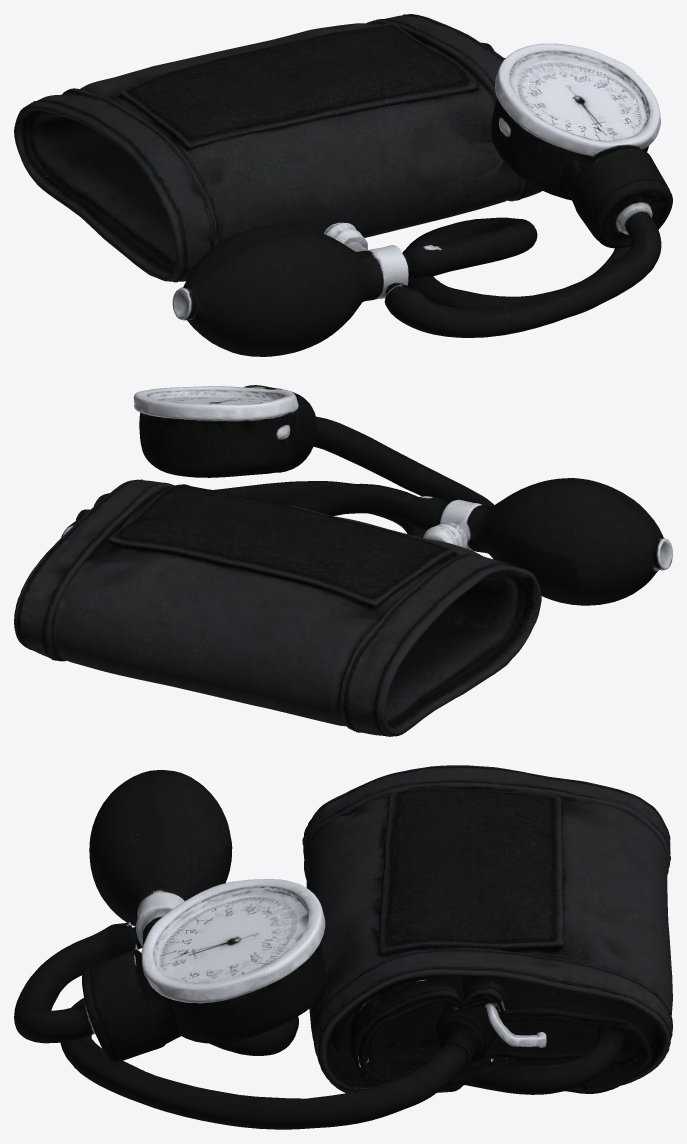
The model's file is bp_cuff.glb.
3 renders of one model, top to bottom at view 1: azimuth 30°, elevation 25°; view 2: azimuth 150°, elevation 25°; view 3: azimuth 270°, elevation 25°, orthographic. The views are drawn at different scales.
Parts seen in each view (by area): view 1: Mesh_0; view 2: Mesh_0; view 3: Mesh_0.
Part boxes in pixels (<box>): Mesh_0: <box>14,14,672,356</box>; Mesh_0: <box>14,385,672,736</box>; Mesh_0: <box>14,765,672,1129</box>.
Size of the model in its own units: 0.3168 by 0.0999 by 0.3104.
1 material, 1 textured.
